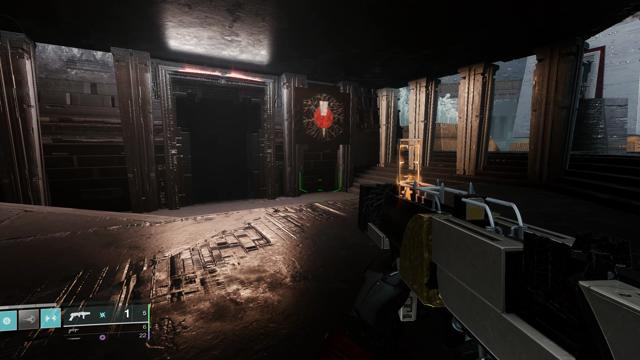kill: (302, 93, 344, 142)
